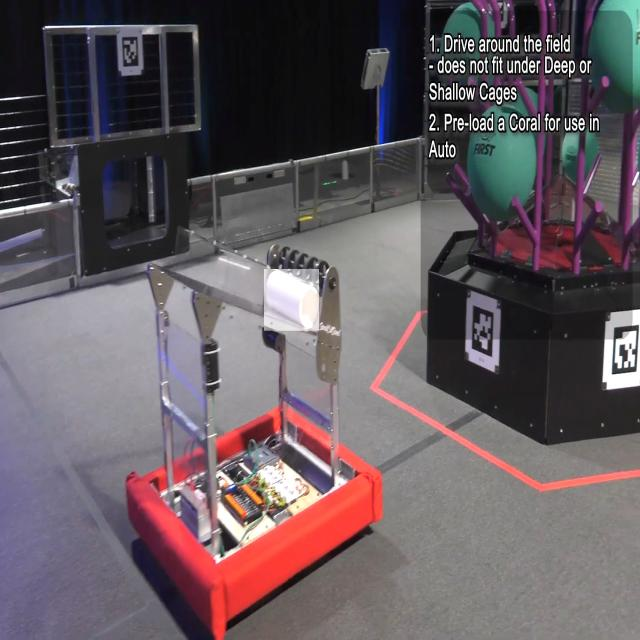Coral: (264, 270, 319, 332)
